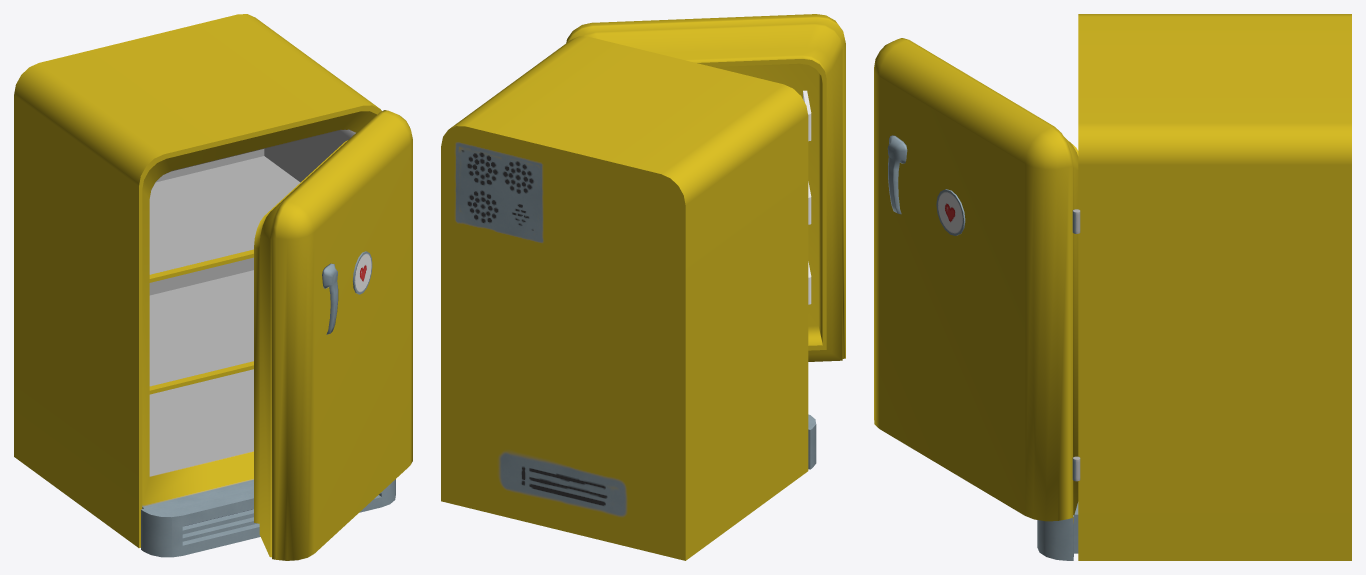
File: Fridge_FinalMesh_B.fbx
The picture shows the model from 3 angles, left to right: view 1: azimuth 30°, elevation 25°; view 2: azimuth 150°, elevation 25°; view 3: azimuth 270°, elevation 25°; orthographic projection. The views are drawn at different scales.
Parts seen in each view (by area): view 1: polySurface1, polySurface16; view 2: polySurface1, polySurface16; view 3: polySurface1, polySurface16.
Part boxes in pixels (x1,y1,x2,y2): polySurface1: [14, 14, 395, 557]; polySurface16: [254, 110, 412, 560]; polySurface1: [441, 36, 816, 560]; polySurface16: [566, 14, 845, 361]; polySurface1: [1037, 14, 1351, 560]; polySurface16: [874, 38, 1080, 521].
Bounding box in the file's own units: 13.5 × 19.46 × 19.86.
Materials: 2 (2 with a texture image).
